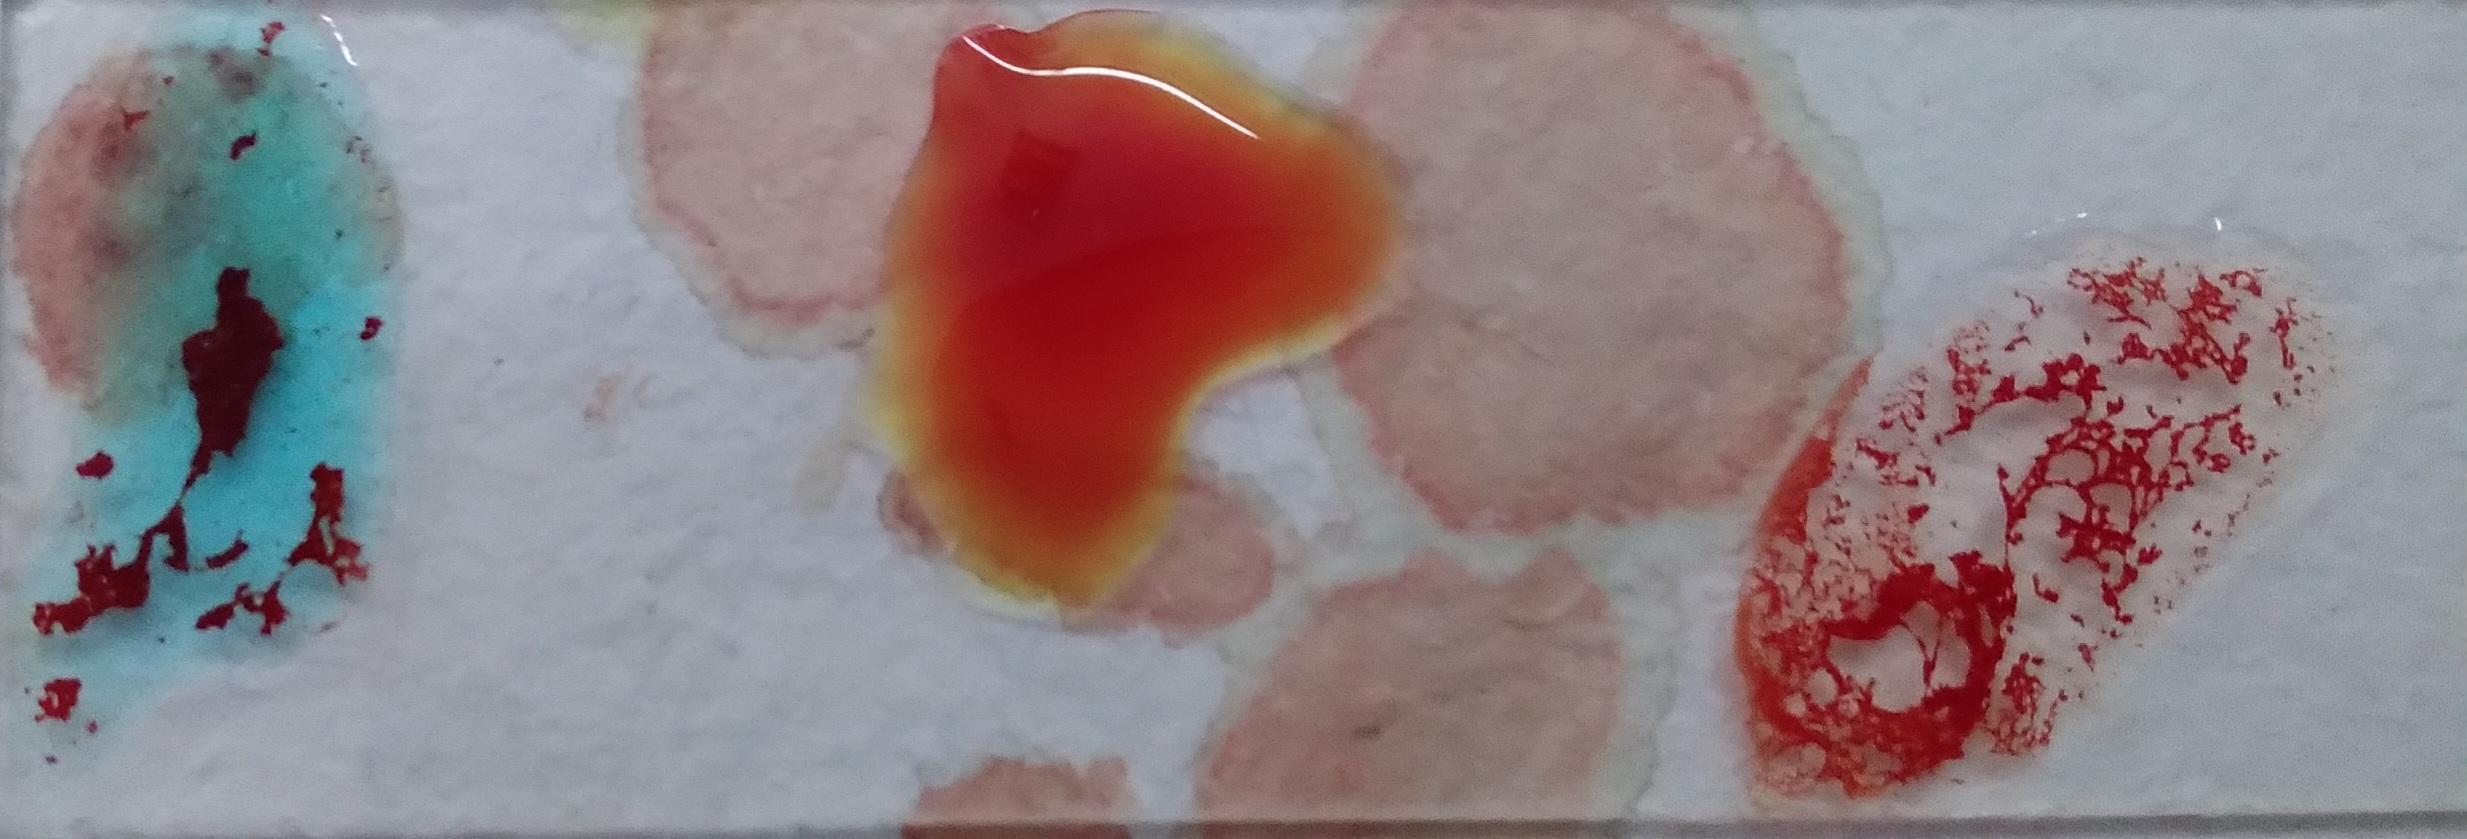A: (2075, 151, 2412, 819)
D: (173, 66, 678, 573)
